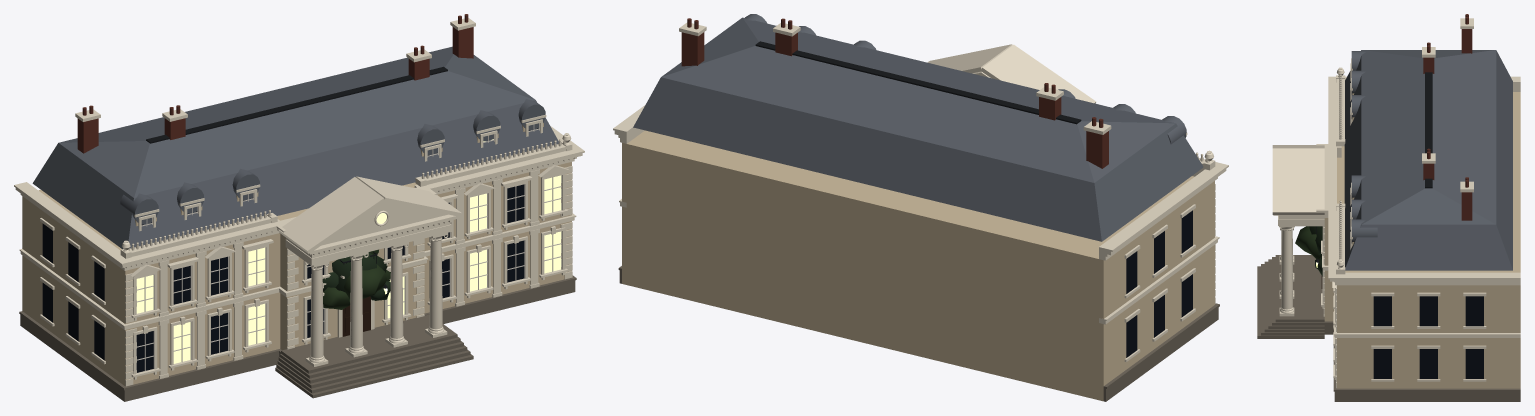
Rendered from street.glb.
3 renders of one model, left to right at view 1: azimuth 30°, elevation 25°; view 2: azimuth 150°, elevation 25°; view 3: azimuth 270°, elevation 25°, orthographic. The views are drawn at different scales.
Parts seen in each view (by area): view 1: mansion_slate, mansion_trim, mansion_stone, mansion_darkstone, mansion_win_dark, mansion_win_lit, mansion_frame, mansion_brick, mansion_iron, tree_leaves2, tree_leaves, mansion_wood; view 2: mansion_stone, mansion_slate, mansion_trim, mansion_brick, mansion_win_dark, mansion_darkstone, mansion_iron; view 3: mansion_slate, mansion_stone, mansion_trim, mansion_darkstone, mansion_win_dark, mansion_brick, mansion_iron, tree_leaves2, tree_leaves.
Boxes of the visible parts, box(x1,y1,x2,y2) form: mansion_slate: box(32, 46, 558, 249); mansion_trim: box(14, 18, 584, 386); mansion_stone: box(22, 122, 571, 386); mansion_darkstone: box(19, 275, 576, 401); mansion_win_dark: box(42, 128, 538, 372); mansion_win_lit: box(136, 139, 561, 363); mansion_frame: box(136, 123, 562, 371); mansion_brick: box(77, 14, 473, 153); mansion_iron: box(146, 66, 447, 288); tree_leaves2: box(323, 249, 390, 309); tree_leaves: box(322, 252, 390, 300); mansion_wood: box(342, 296, 370, 336); mansion_stone: box(622, 130, 1214, 401); mansion_slate: box(633, 14, 1203, 241); mansion_trim: box(613, 22, 1228, 362); mansion_brick: box(681, 18, 1108, 168); mansion_win_dark: box(1126, 210, 1192, 357); mansion_darkstone: box(618, 266, 1219, 401); mansion_iron: box(755, 41, 1081, 124); mansion_slate: box(1344, 50, 1512, 270); mansion_stone: box(1324, 92, 1520, 388); mansion_trim: box(1272, 18, 1520, 388); mansion_darkstone: box(1257, 255, 1520, 401); mansion_win_dark: box(1373, 296, 1483, 378); mansion_brick: box(1423, 14, 1472, 220); mansion_iron: box(1315, 72, 1432, 262); tree_leaves2: box(1295, 226, 1322, 259); tree_leaves: box(1309, 226, 1322, 276).
Size of the model in its own units: 31.1 by 14.91 by 17.2.
